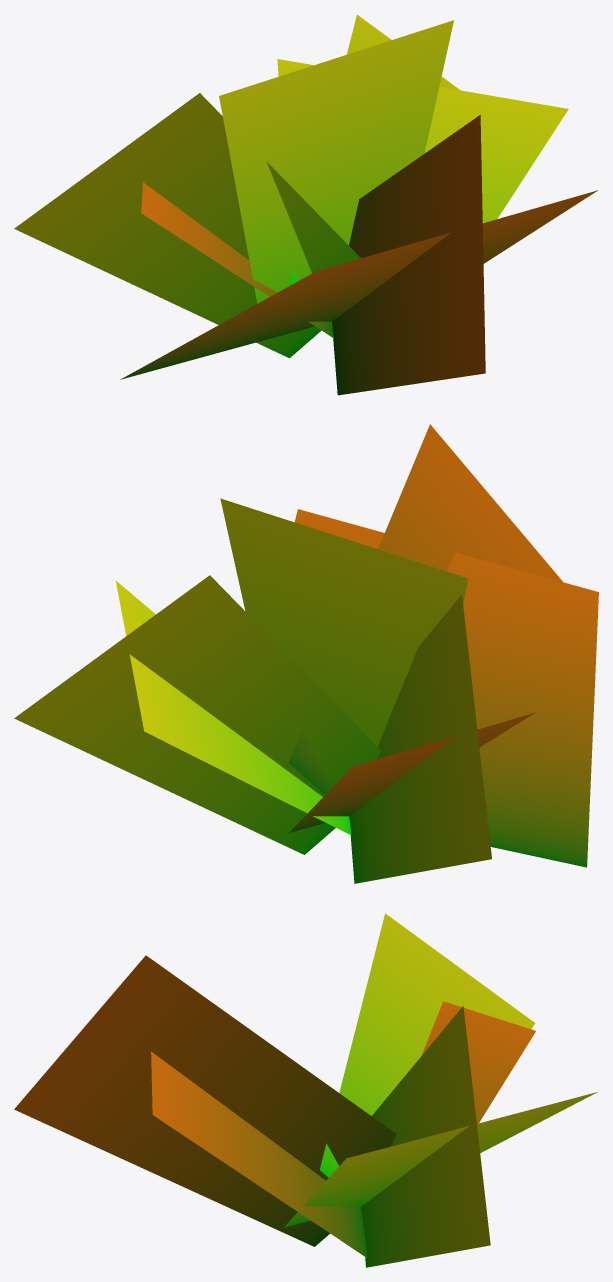
The model's file is Var1_LOD2.fbx.
3 renders of one model, top to bottom at view 1: azimuth 30°, elevation 25°; view 2: azimuth 150°, elevation 25°; view 3: azimuth 270°, elevation 25°, orthographic. The views are drawn at different scales.
Parts seen in each view (by area): view 1: _9df1_Var1_LOD2; view 2: _9df1_Var1_LOD2; view 3: _9df1_Var1_LOD2.
Boxes of the visible parts, <box> form: _9df1_Var1_LOD2: <box>14,15,598,395</box>; _9df1_Var1_LOD2: <box>14,424,598,883</box>; _9df1_Var1_LOD2: <box>14,913,597,1267</box>.
Size of the model in its own units: 45.76 by 30.46 by 50.89.
